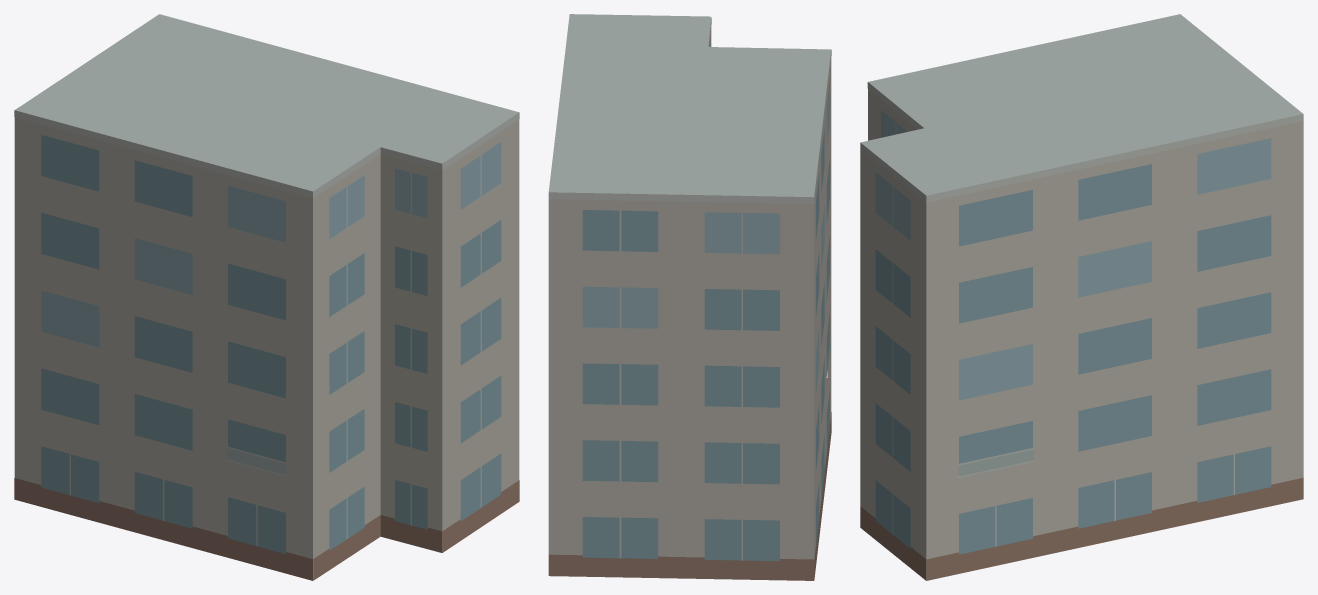
File: survey-upis-32834818.glb
The picture shows the model from 3 angles, left to right: view 1: azimuth 30°, elevation 25°; view 2: azimuth 150°, elevation 25°; view 3: azimuth 270°, elevation 25°; orthographic projection.
Visible parts, largest first — view 1: survey-upis-32834818.tmp; view 2: survey-upis-32834818.tmp; view 3: survey-upis-32834818.tmp.
Part boxes in pixels (<box>): survey-upis-32834818.tmp: <box>14,14,519,580</box>; survey-upis-32834818.tmp: <box>548,14,831,580</box>; survey-upis-32834818.tmp: <box>860,14,1303,580</box>.
Bounding box in the file's own units: 13.82 × 13.65 × 14.25.
